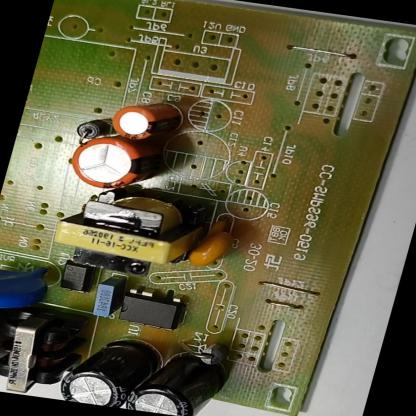Cap1: (62, 132, 186, 199)
Cap2: (106, 96, 184, 145)
Cap3: (52, 331, 148, 409)
Cap4: (124, 346, 234, 416)
MOSFET: (112, 286, 190, 333)
Mov: (0, 261, 53, 316)
Transformer: (44, 181, 210, 277), (0, 316, 73, 398)
